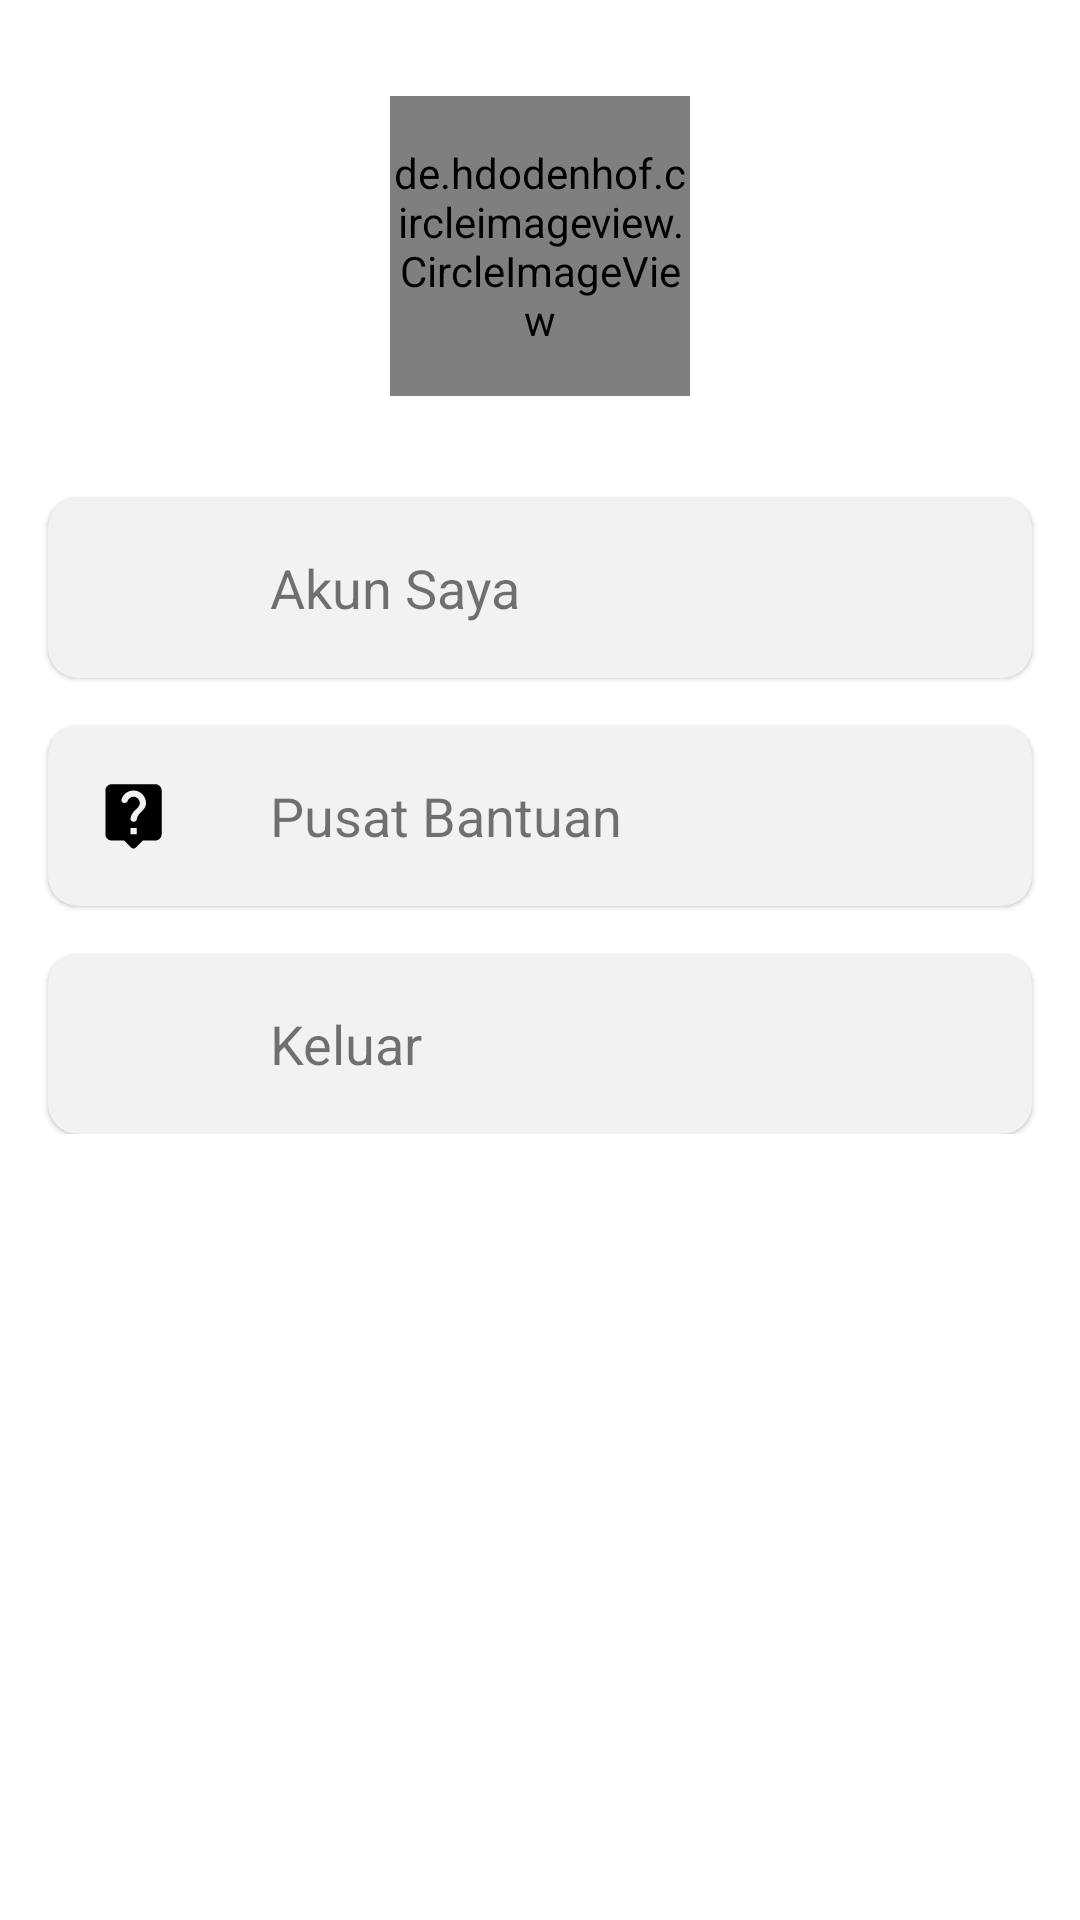

Screen size 1080×1920. Icon name, then its center in pixels as point (x, y):
live help: point (133, 816)
